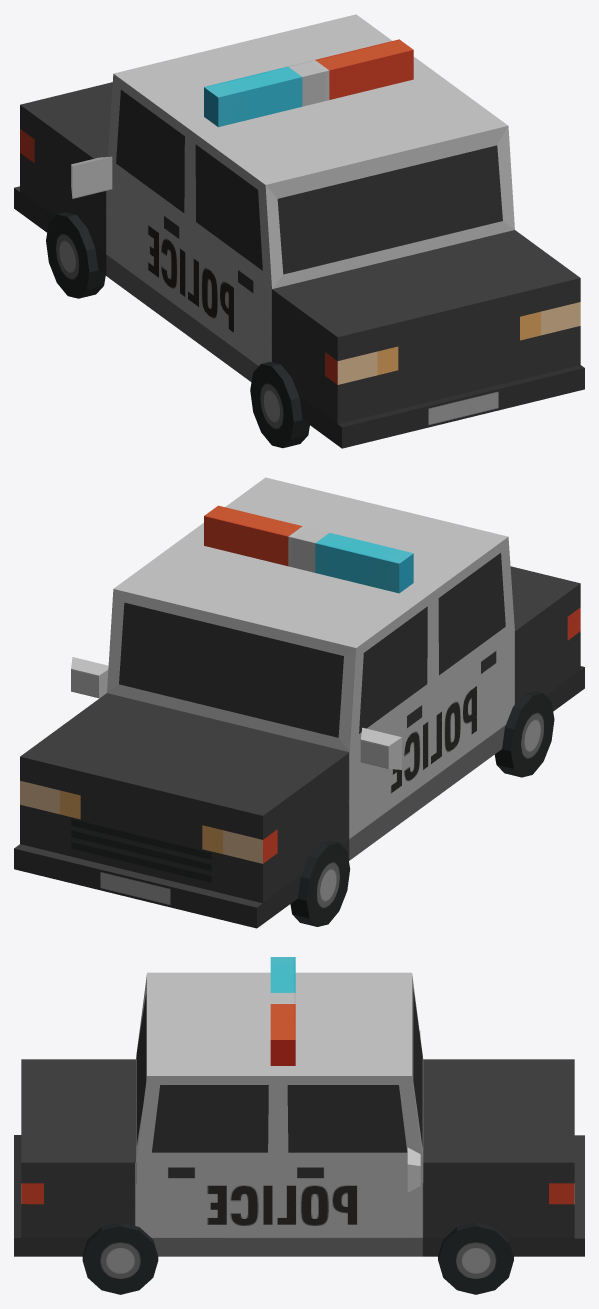
File: Police_Car.glb
The picture shows the model from 3 angles, top to bottom: view 1: azimuth 30°, elevation 25°; view 2: azimuth 150°, elevation 25°; view 3: azimuth 270°, elevation 25°; orthographic projection. The views are drawn at different scales.
Parts seen in each view (by area): view 1: cop_mesh; view 2: cop_mesh; view 3: cop_mesh.
Boxes of the visible parts, box(x1,y1,x2,y2) form: cop_mesh: box(14, 14, 584, 448); cop_mesh: box(14, 477, 584, 928); cop_mesh: box(14, 957, 584, 1294).
Size of the model in its own units: 0.0333 by 0.0267 by 0.0574.
1 material, 1 textured.
